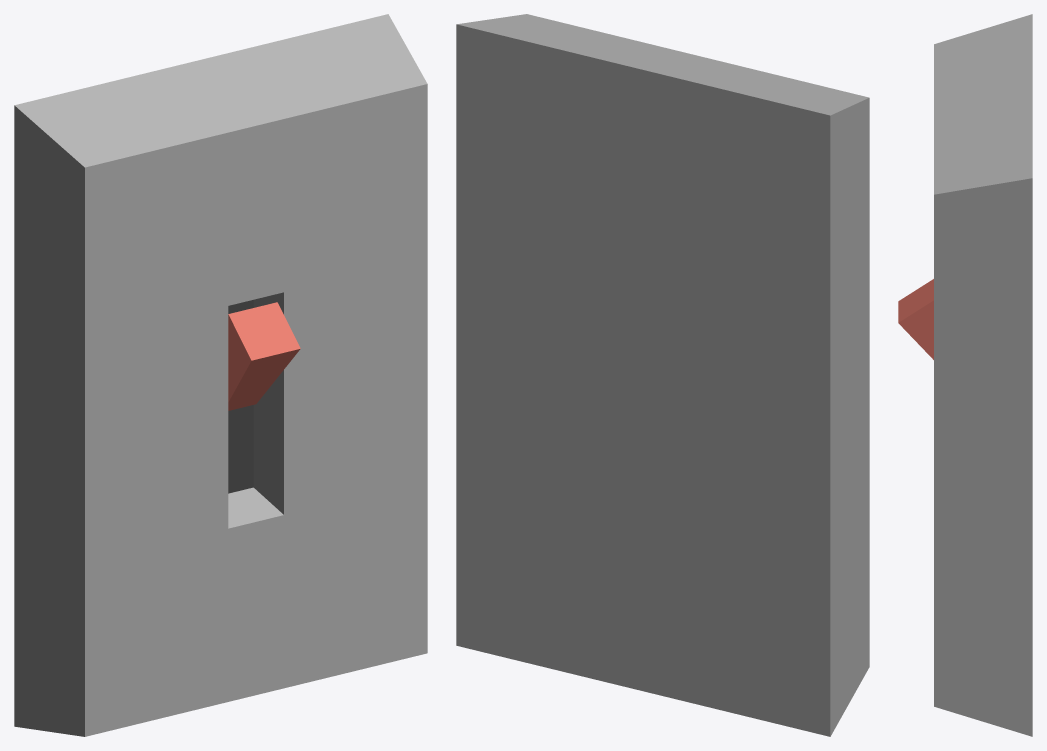
File: ToggleSwitch.fbx
3 views of the same model, side by side, from view 1: azimuth 30°, elevation 25°; view 2: azimuth 150°, elevation 25°; view 3: azimuth 270°, elevation 25° (orthographic). The views are drawn at different scales.
Parts seen in each view (by area): view 1: Toggle_Switch_Base, Toggle_Switch; view 2: Toggle_Switch_Base; view 3: Toggle_Switch_Base, Toggle_Switch.
Boxes of the visible parts, x1=… form: Toggle_Switch_Base: x1=14, y1=14, x2=427, y2=736; Toggle_Switch: x1=228, y1=302, x2=300, y2=410; Toggle_Switch_Base: x1=456, y1=14, x2=869, y2=736; Toggle_Switch_Base: x1=934, y1=14, x2=1032, y2=736; Toggle_Switch: x1=898, y1=279, x2=933, y2=359.
Size of the model in its own units: 126 by 200 by 43.65.
